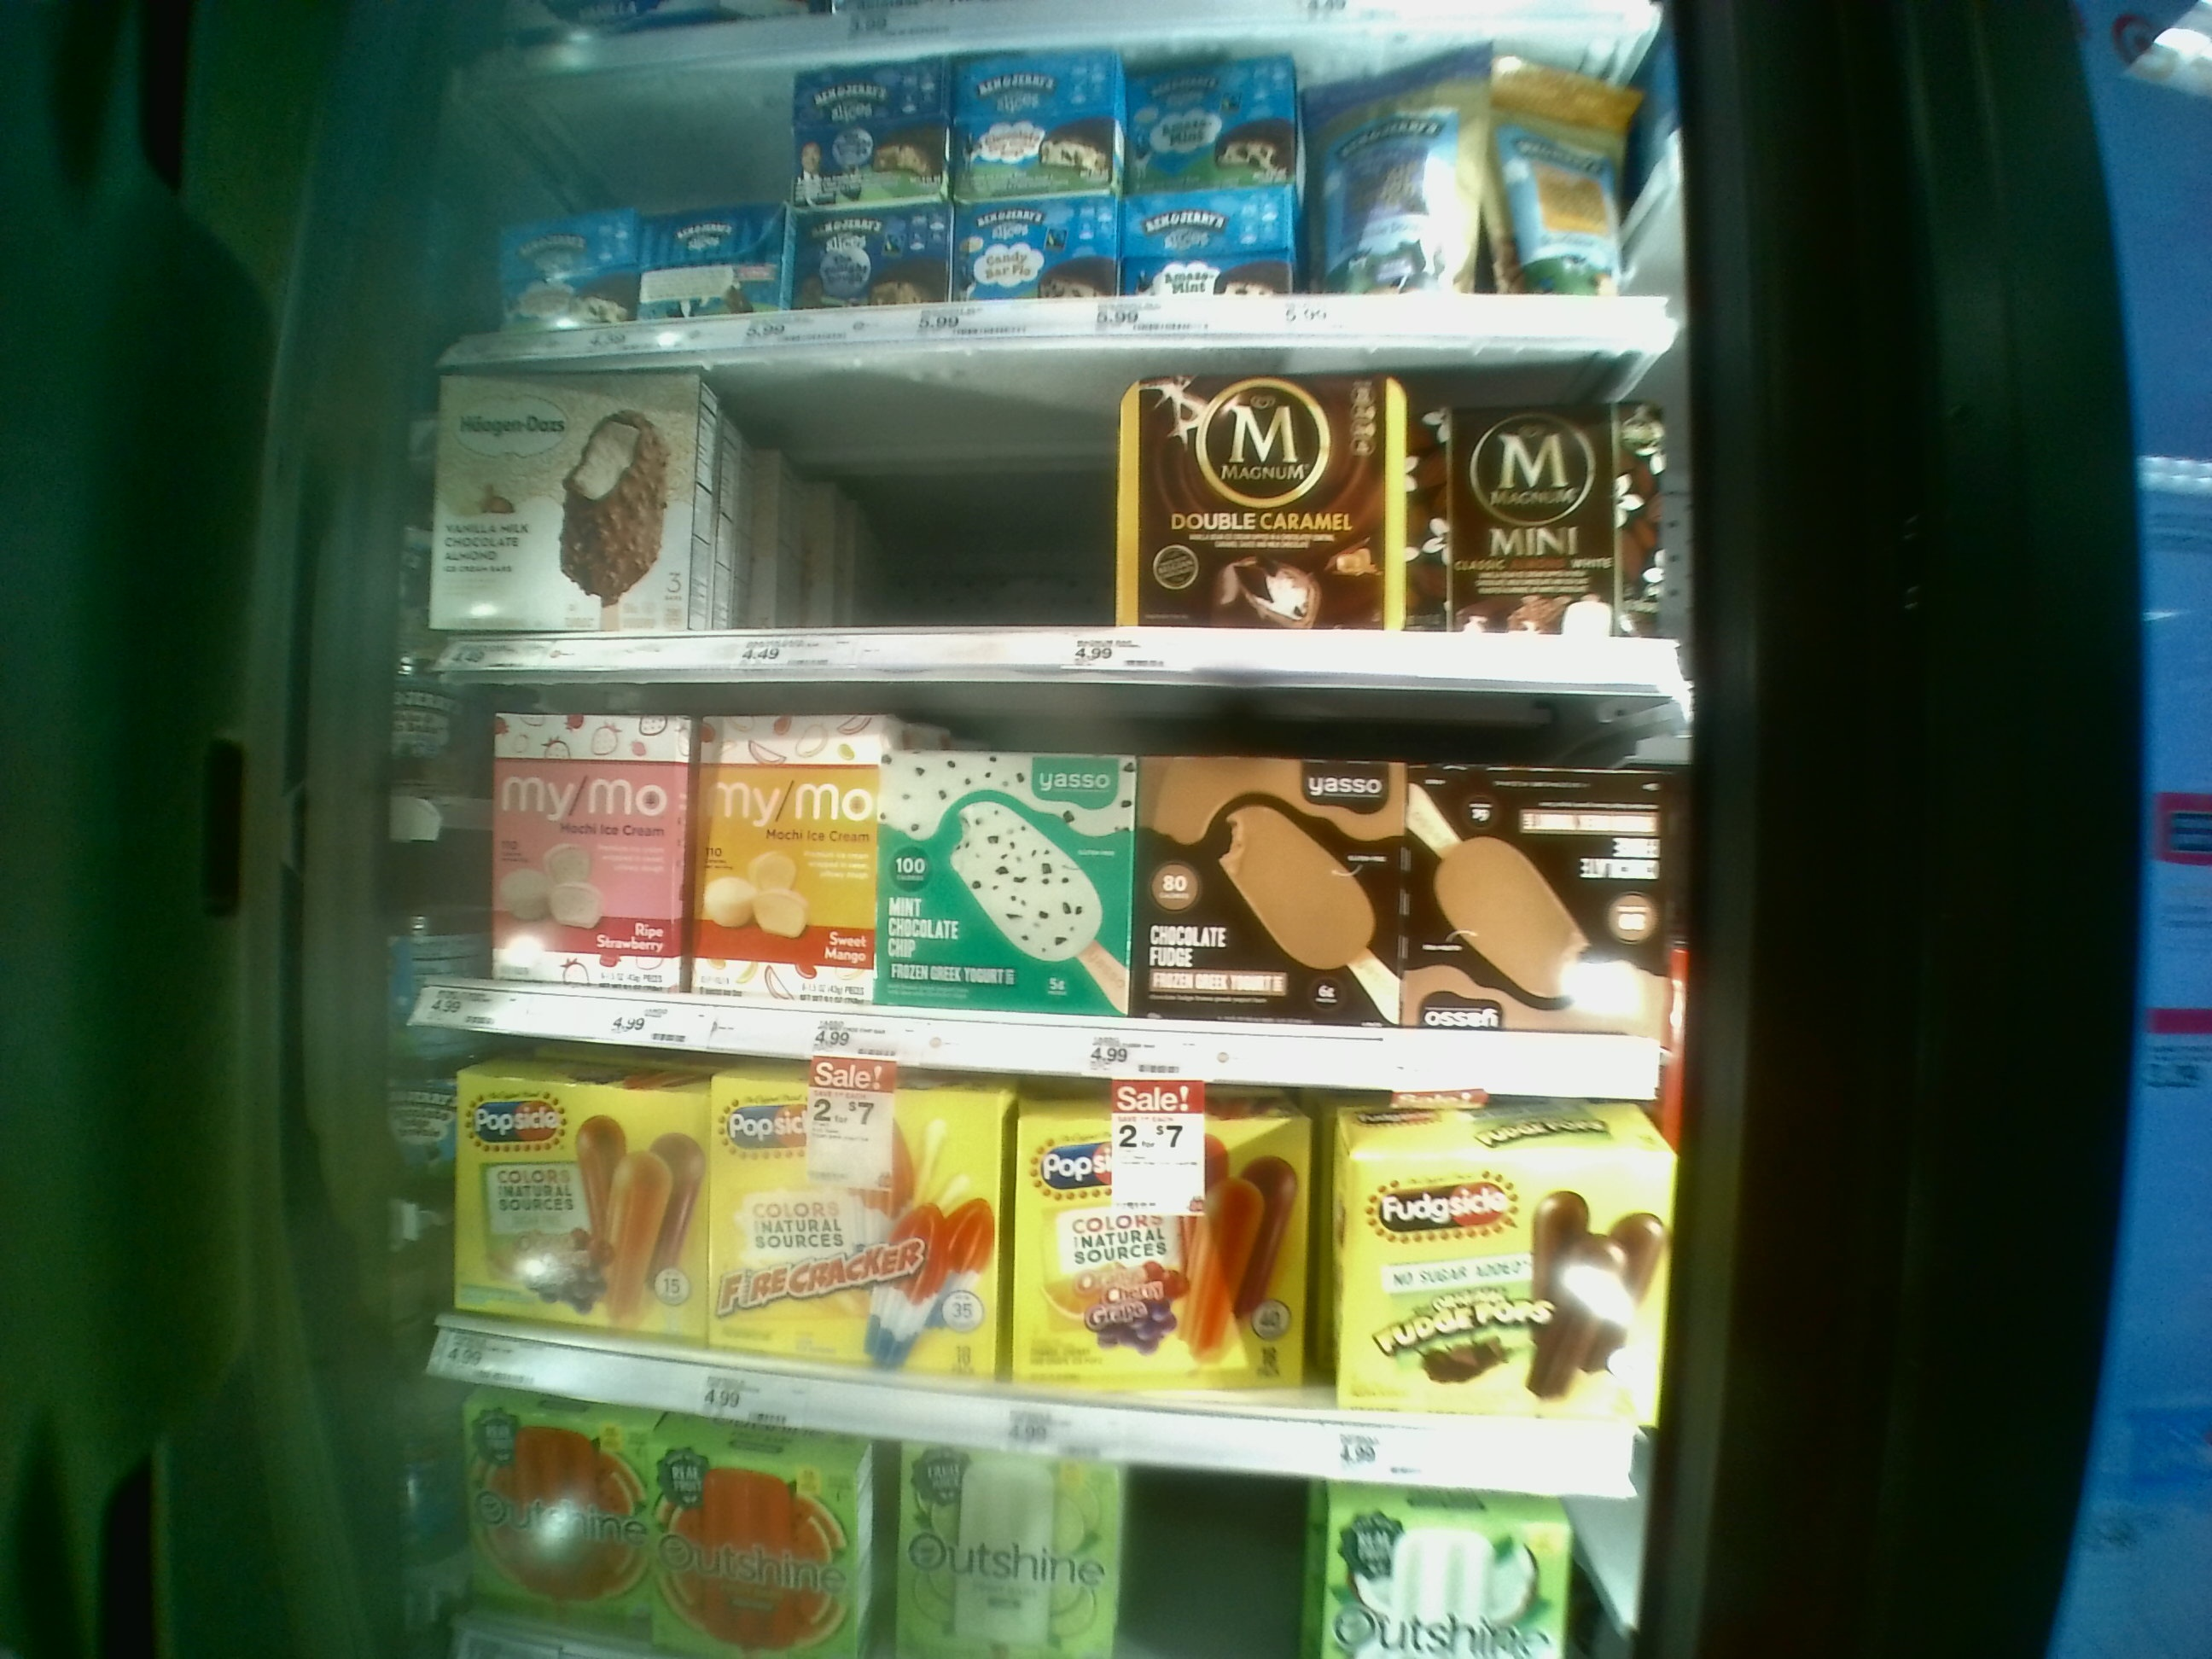ice-cream-shelf: (434, 697, 1677, 1077), (434, 371, 1684, 695), (451, 70, 1691, 354)
